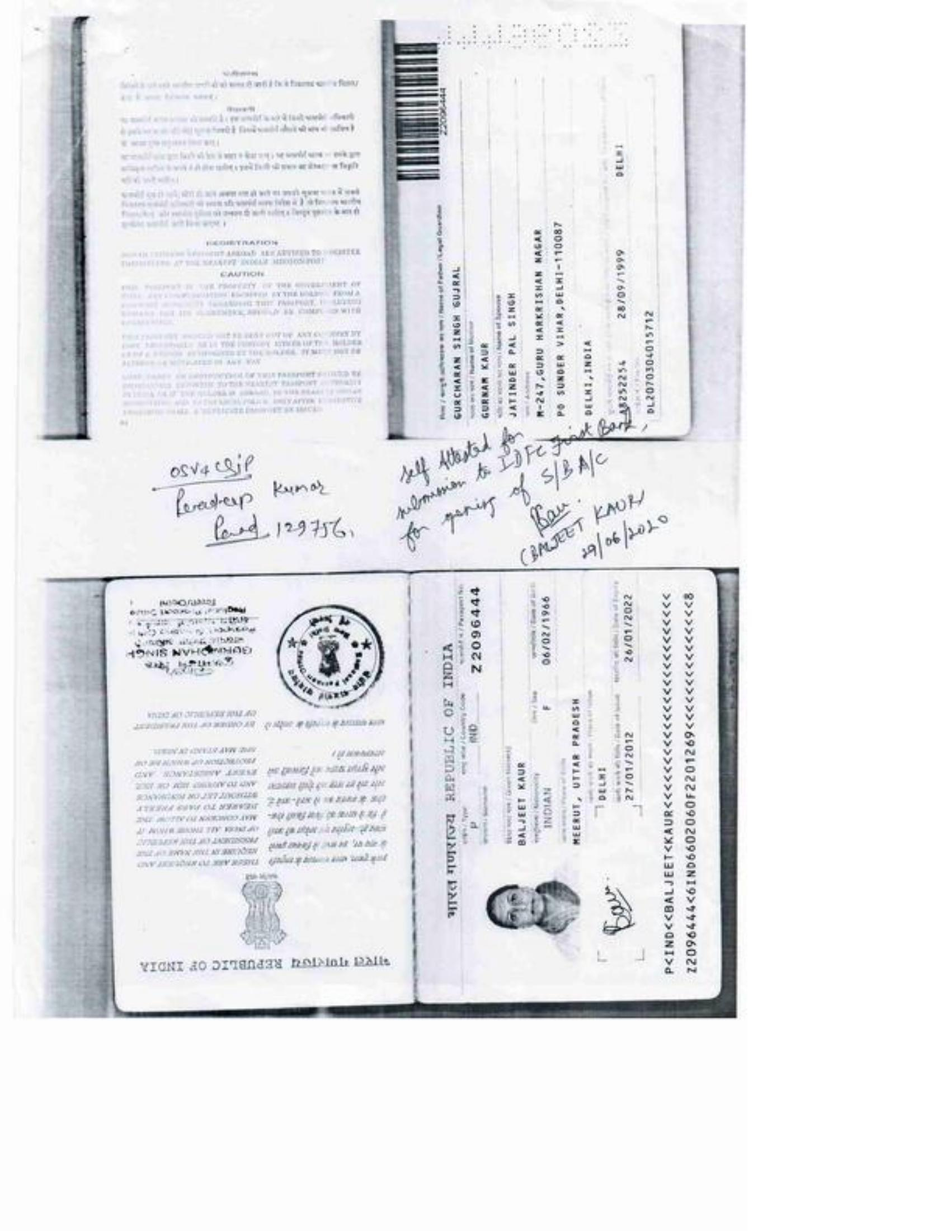DOB: (534, 593, 563, 673)
File_no: (640, 306, 664, 422)
address: (527, 208, 600, 432)
country_code: (468, 713, 482, 749)
date_of_expiry: (611, 579, 637, 675)
date_of_issue: (621, 719, 643, 806)
details: (652, 584, 707, 990)
father_name: (443, 267, 467, 409)
mother_name: (475, 333, 493, 422)
name: (515, 752, 532, 851)
nationality: (540, 781, 560, 833)
old_passport_details: (604, 122, 638, 428)
passport_no: (463, 589, 495, 681), (432, 81, 453, 139)
photo: (475, 862, 593, 955)
place_of_birth: (567, 692, 589, 853)
place_of_issue: (595, 752, 613, 827)
sex: (542, 697, 559, 719)
sign: (599, 866, 640, 943)
spouse_name: (499, 286, 522, 429)
type: (462, 809, 483, 839)
